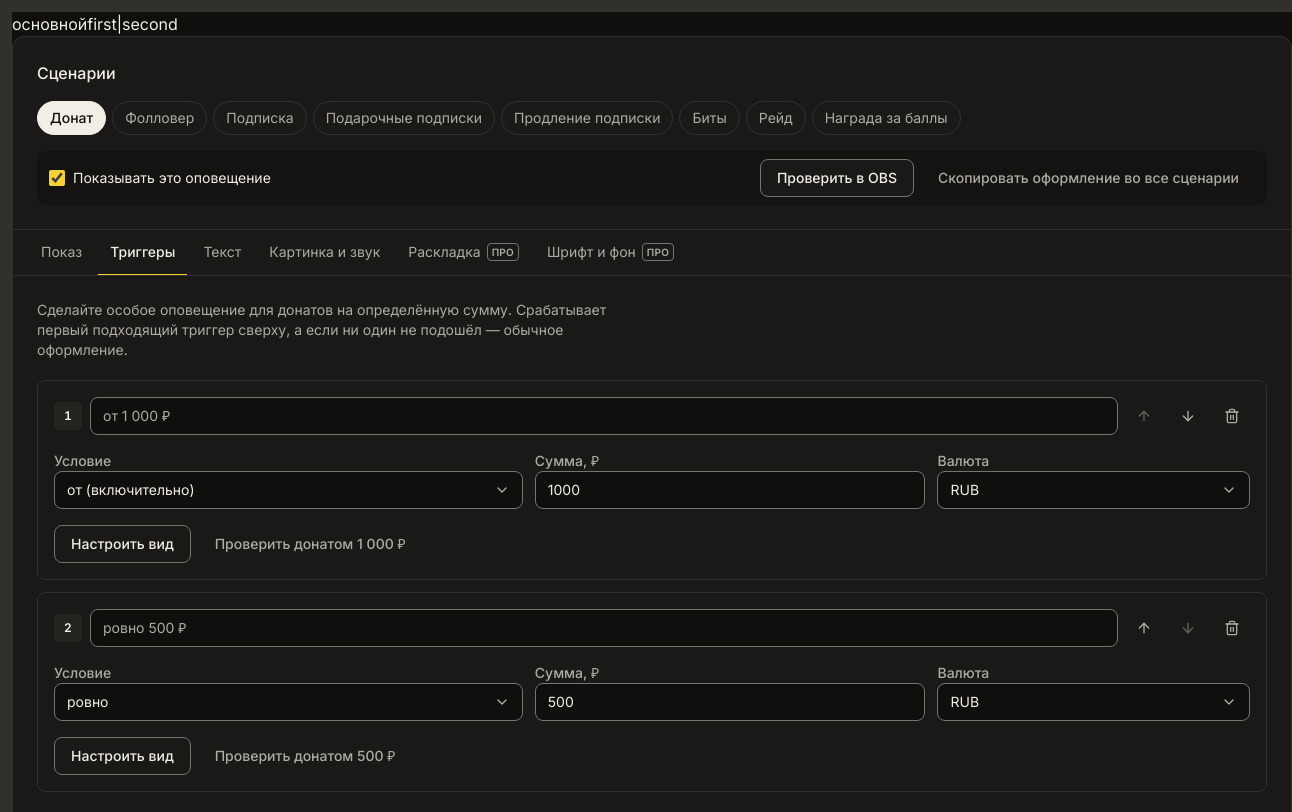
Scenario: триггеры доната › стрелки меняют приоритет
Click the button named "Поднять «ровно 500". click: (1144, 628)
box: [1126,610,1162,646]
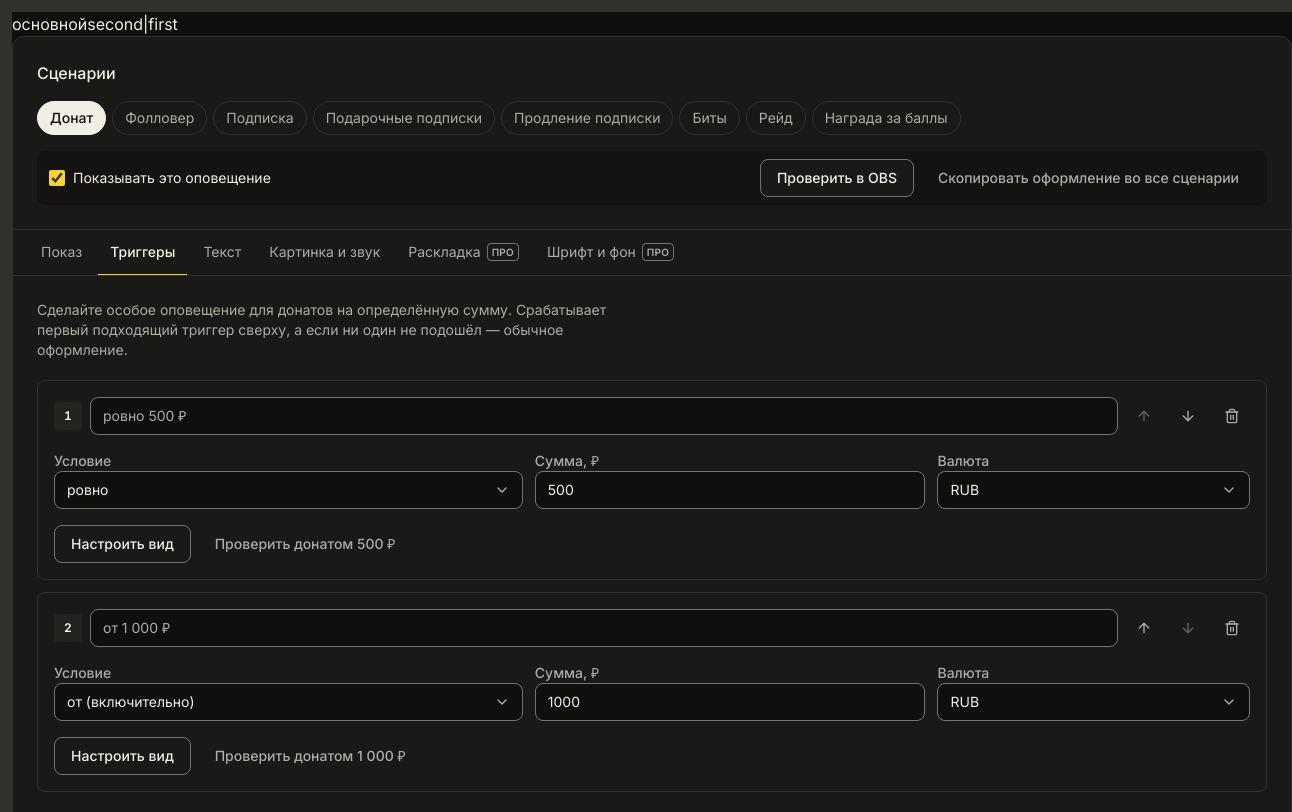
Expected: the text with test id "trigger-titles" reads "second|first", [87,14,178,34]
